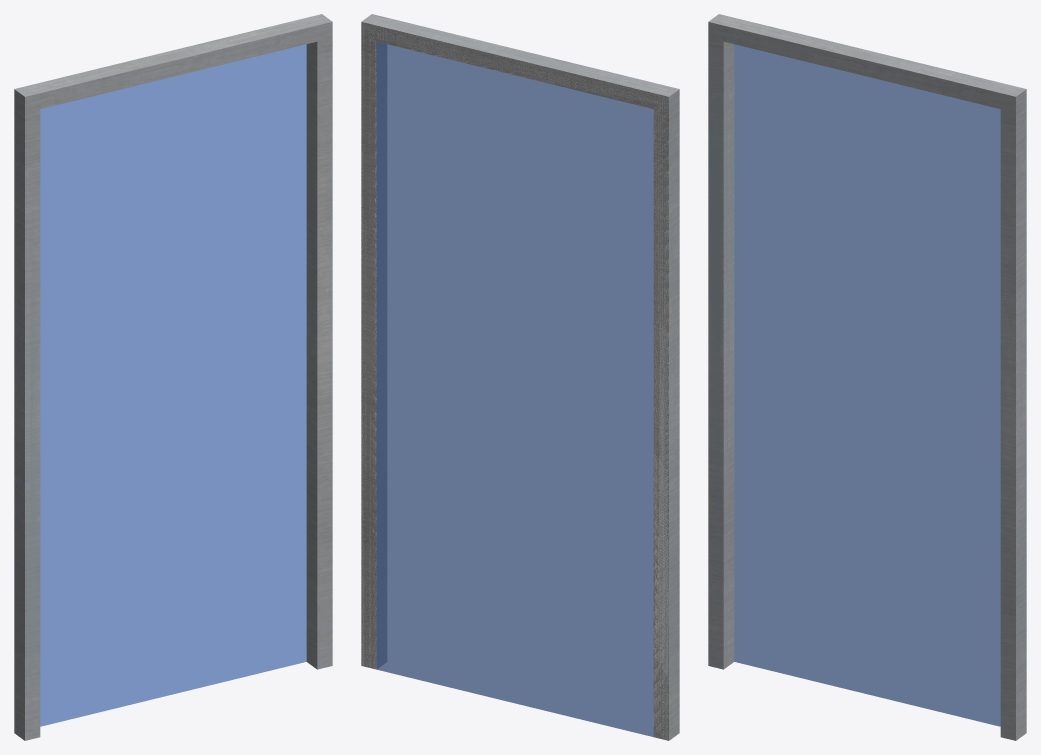
File: ventanaCristal.fbx
The picture shows the model from 3 angles, left to right: view 1: azimuth 30°, elevation 25°; view 2: azimuth 150°, elevation 25°; view 3: azimuth 330°, elevation 25°; orthographic projection.
Parts seen in each view (by area): view 1: Model; view 2: Model; view 3: Model.
Boxes of the visible parts, x1,y1,x2,y2 form: Model: (14, 14, 332, 740); Model: (361, 14, 679, 740); Model: (708, 14, 1026, 740).
Size of the model in its own units: 1 by 2 by 0.06.
